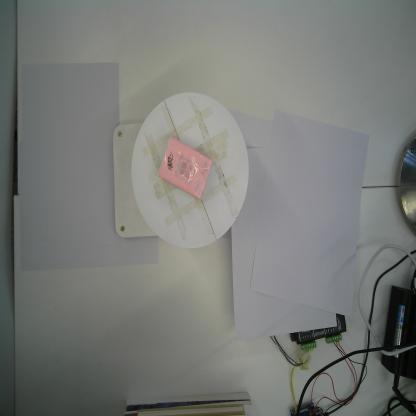Tissue: (157, 136, 212, 200)
